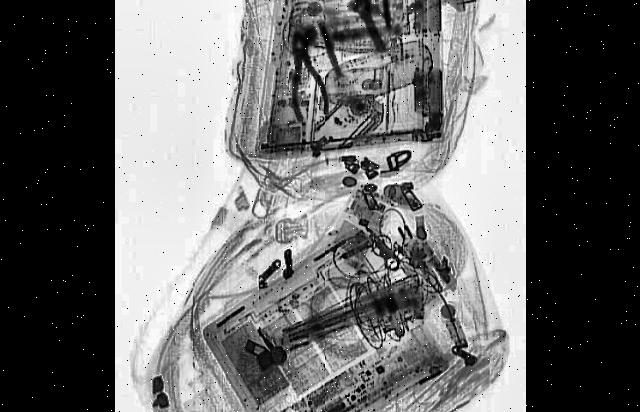Pliers: (278, 21, 329, 131)
Wrench: (345, 0, 393, 62)
